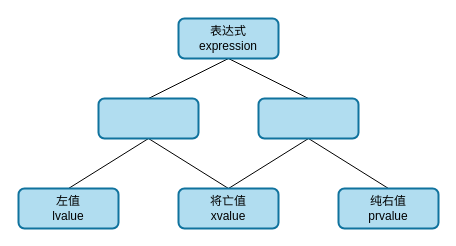
Some shapes in this 456 by 246 pixel diagram are drawn without their labels. The shapes that lost their labels are listed below. From the top down, each one's box as (x1, y1, x2, y2) in pixels, then its label:
(97, 97, 199, 139): 泛左值 glvalue
(257, 97, 359, 139): 右值 rvalue
